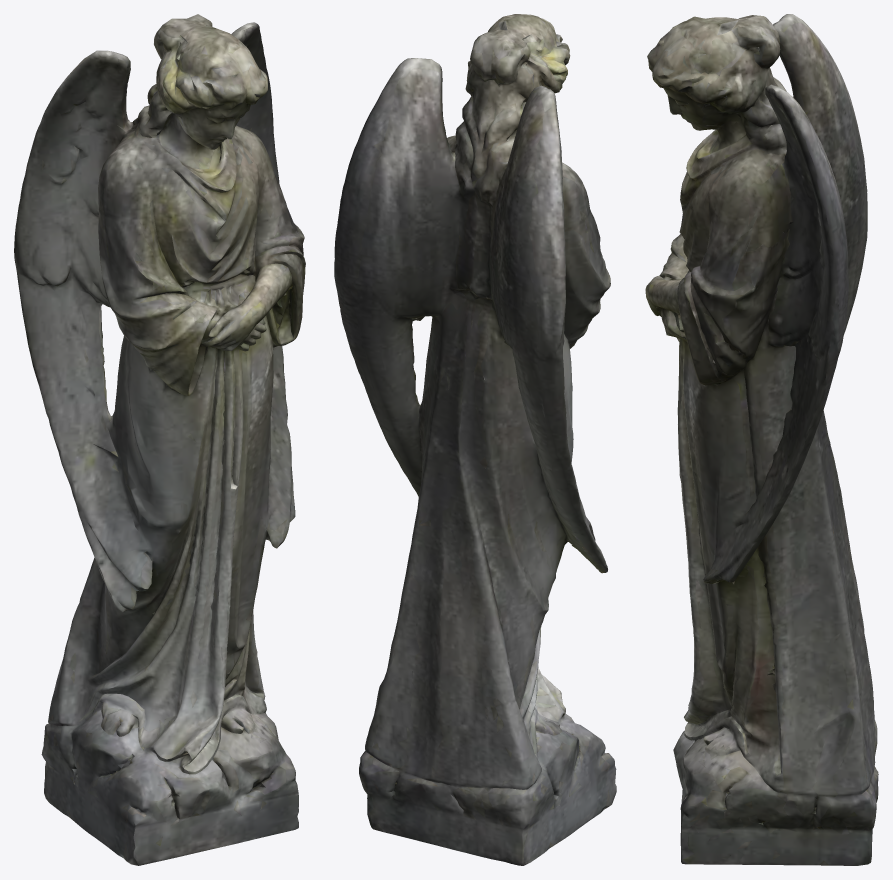
The model's file is statue_angel.glb.
The picture shows the model from 3 angles, left to right: view 1: azimuth 30°, elevation 25°; view 2: azimuth 150°, elevation 25°; view 3: azimuth 270°, elevation 25°; orthographic projection. The views are drawn at different scales.
Parts seen in each view (by area): view 1: angel_26k_angel_26k_u1_v1_0; view 2: angel_26k_angel_26k_u1_v1_0; view 3: angel_26k_angel_26k_u1_v1_0.
Boxes of the visible parts, x1,y1,x2,y2 form: angel_26k_angel_26k_u1_v1_0: [14, 14, 305, 865]; angel_26k_angel_26k_u1_v1_0: [334, 14, 616, 865]; angel_26k_angel_26k_u1_v1_0: [645, 14, 878, 865].
Bounding box in the file's own units: 2.63 × 8 × 2.09.
Materials: 1 (1 with a texture image).
